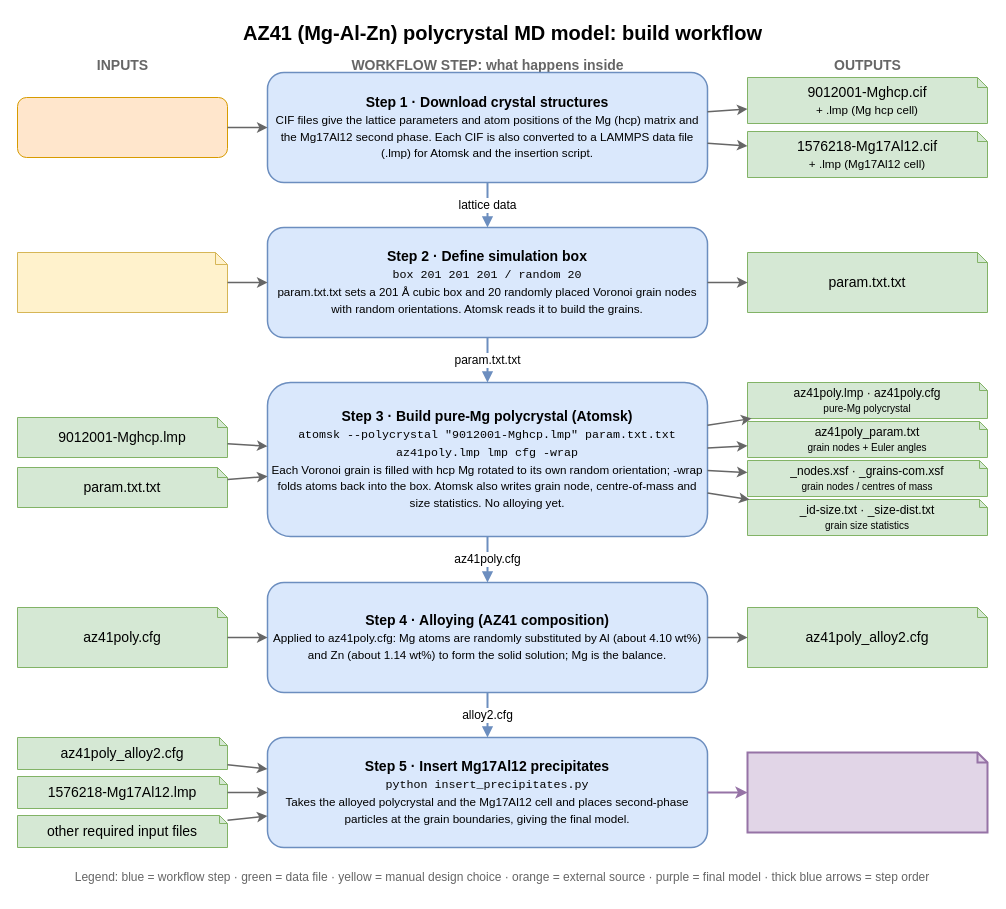
This 1006x909 diagram has some shape labels left out. Here are the shapes that lost their labels. From the top down, the centre of each, then its label:
At point 122,127: "Online crystal database (CIF source)".
At point 122,282: "Design choices 201 Å cubic box · 20 grains".
At point 867,792: "az41poly_with_precipitates.cfg final AZ41 model".
